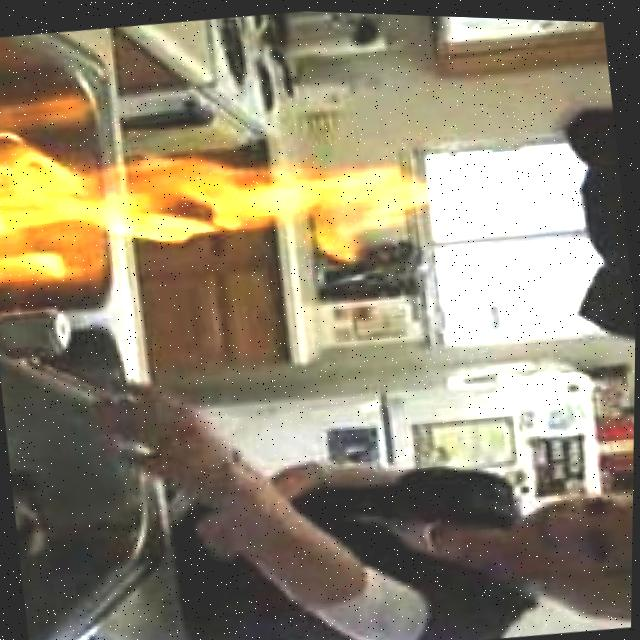Fire: (0, 91, 425, 300)
